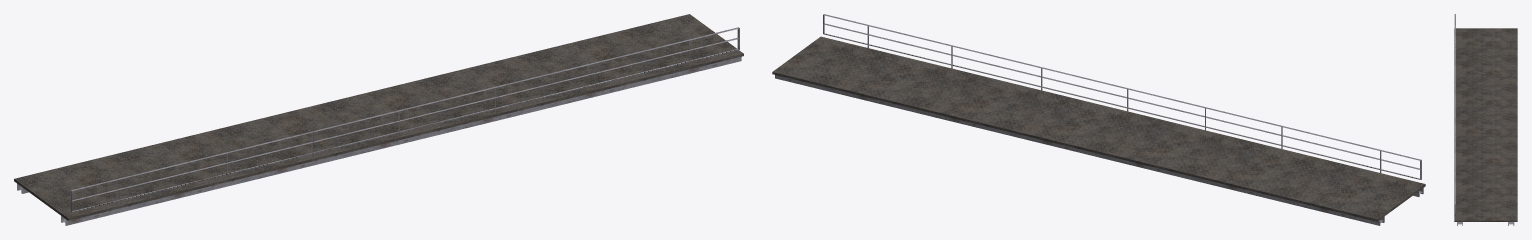
The model's file is Factory1Stairs06.FBX.
3 renders of one model, left to right at view 1: azimuth 30°, elevation 25°; view 2: azimuth 150°, elevation 25°; view 3: azimuth 270°, elevation 25°, orthographic. The views are drawn at different scales.
Visible parts, largest first — view 1: Factory1Stairs06; view 2: Factory1Stairs06; view 3: Factory1Stairs06.
Part boxes in pixels (bbox=[...]): Factory1Stairs06: bbox=[14, 14, 743, 225]; Factory1Stairs06: bbox=[772, 14, 1425, 225]; Factory1Stairs06: bbox=[1454, 14, 1517, 225].
Size of the model in its own units: 1800 by 90.4 by 250.
